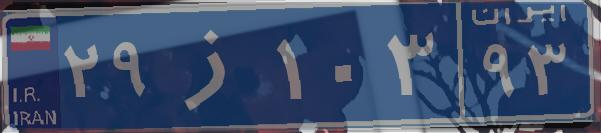0: (330, 28, 385, 110)
1: (273, 28, 330, 110)
2: (57, 26, 110, 107)
3: (385, 28, 445, 110), (525, 38, 570, 115)
9: (475, 38, 525, 113), (110, 28, 158, 105)
ز: (158, 15, 273, 115)
